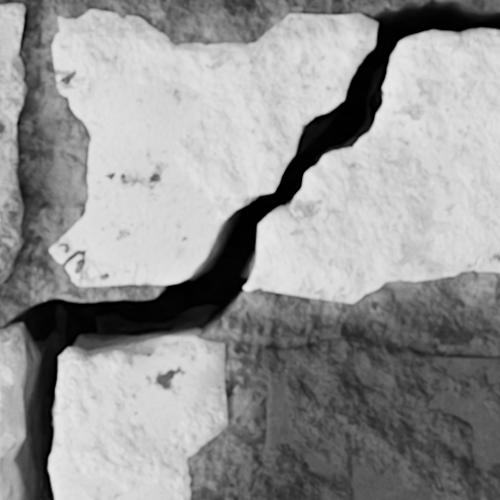brick: (250, 332, 499, 499), (0, 4, 28, 283)
broken_brick: (51, 10, 376, 285), (244, 29, 499, 302), (51, 336, 227, 499), (0, 327, 19, 468), (0, 471, 5, 499)
crack: (0, 0, 499, 499)
